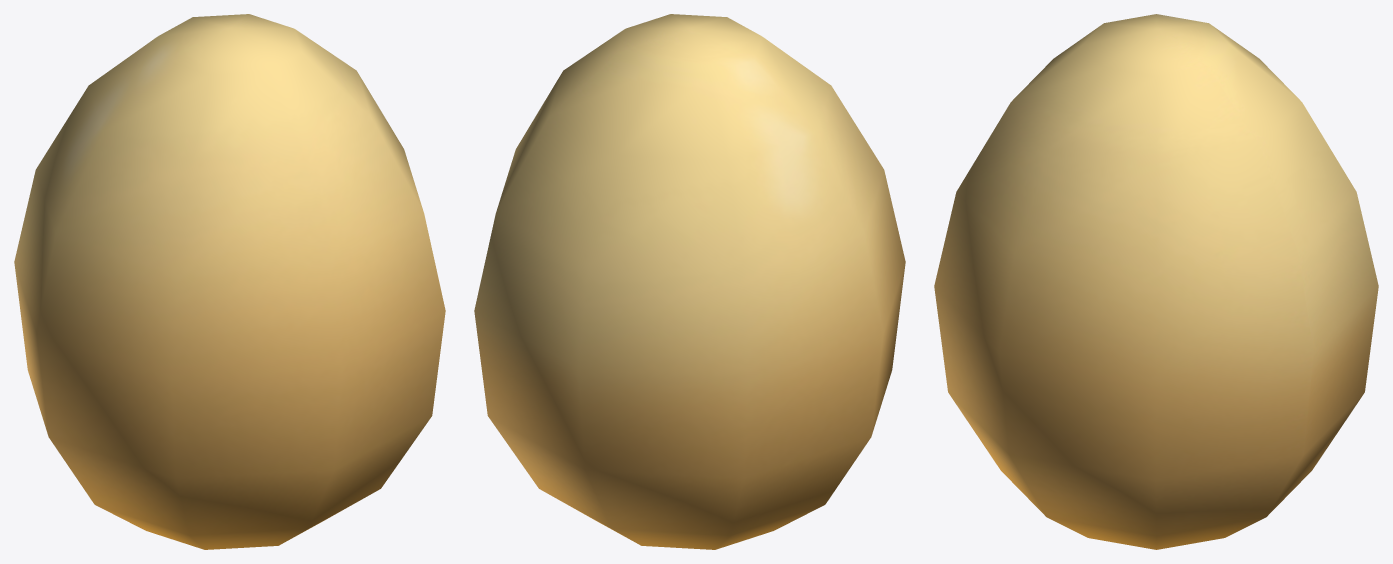
File: Eggs.fbx
3 views of the same model, side by side, from view 1: azimuth 30°, elevation 25°; view 2: azimuth 150°, elevation 25°; view 3: azimuth 270°, elevation 25° (orthographic).
Parts seen in each view (by area): view 1: pSphere1; view 2: pSphere1; view 3: pSphere1.
Boxes of the visible parts, bbox=[...] form: pSphere1: bbox=[14, 14, 445, 549]; pSphere1: bbox=[474, 14, 905, 549]; pSphere1: bbox=[934, 14, 1378, 549].
Bounding box in the file's own units: 2 × 2.47 × 2.
